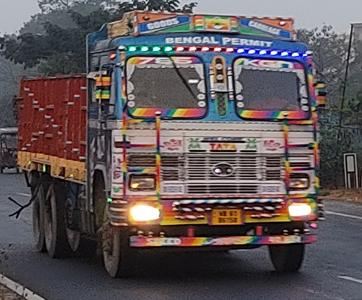Truck: (15, 8, 327, 283)
